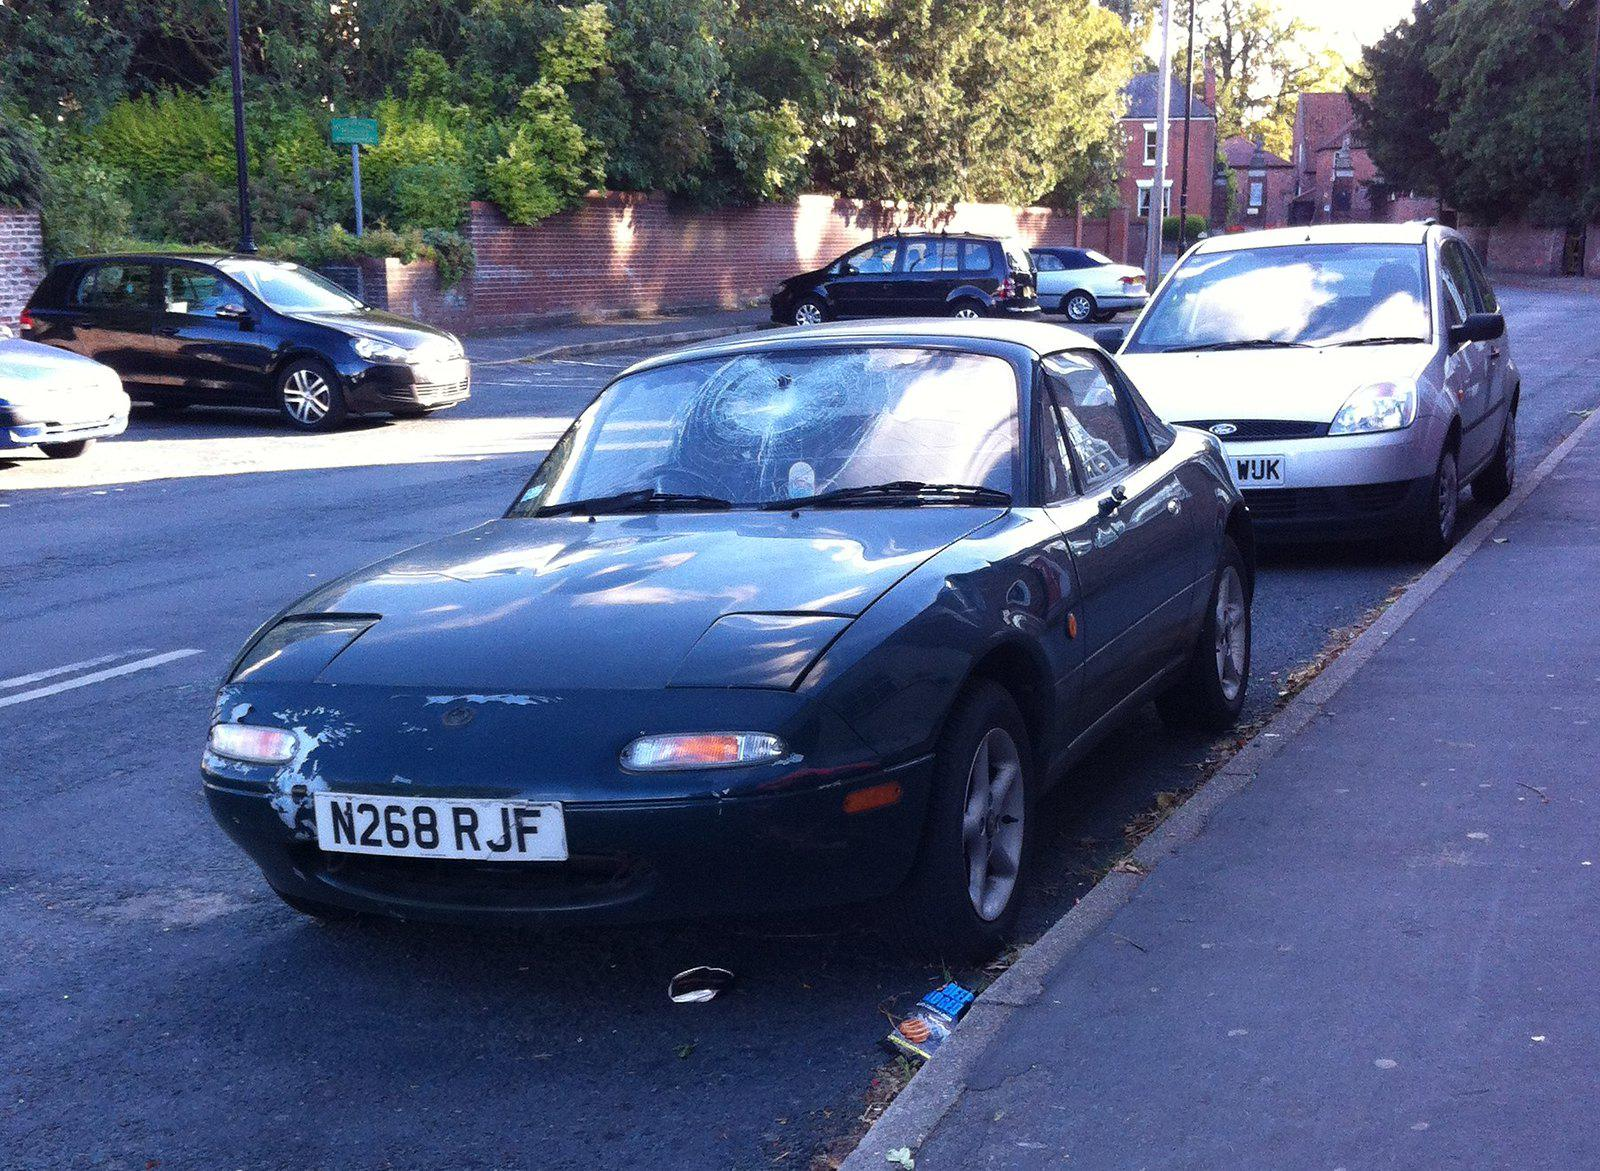Front-Windscreen-Damage: (565, 360, 1024, 523)
bonnet-dent: (301, 520, 940, 700)
front-bumper-dent: (191, 703, 867, 913)
